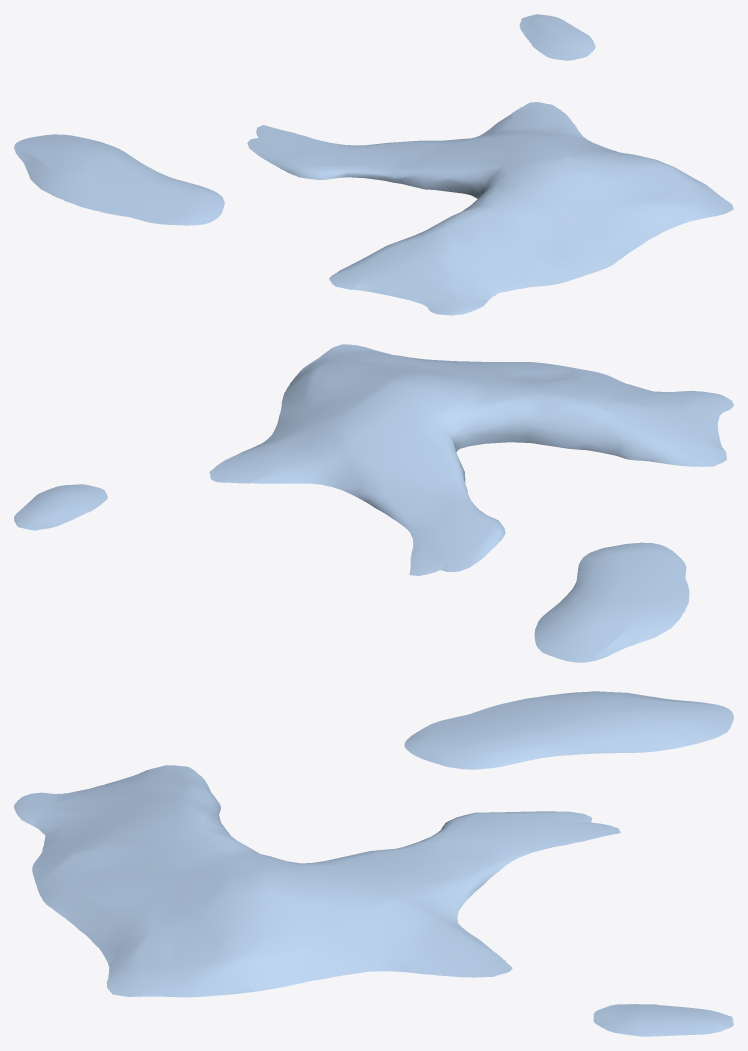
The model's file is IcePatchSmall_01.fbx.
3 renders of one model, top to bottom at view 1: azimuth 30°, elevation 25°; view 2: azimuth 150°, elevation 25°; view 3: azimuth 270°, elevation 25°, orthographic. The views are drawn at different scales.
Visible parts, largest first — view 1: IcePatchSmall_01.001; view 2: IcePatchSmall_01.001; view 3: IcePatchSmall_01.001.
Part boxes in pixels (<box>): IcePatchSmall_01.001: <box>14,14,733,315</box>; IcePatchSmall_01.001: <box>14,344,733,662</box>; IcePatchSmall_01.001: <box>14,691,733,1036</box>.
Size of the model in its own units: 1.99 by 0.1176 by 1.75.
